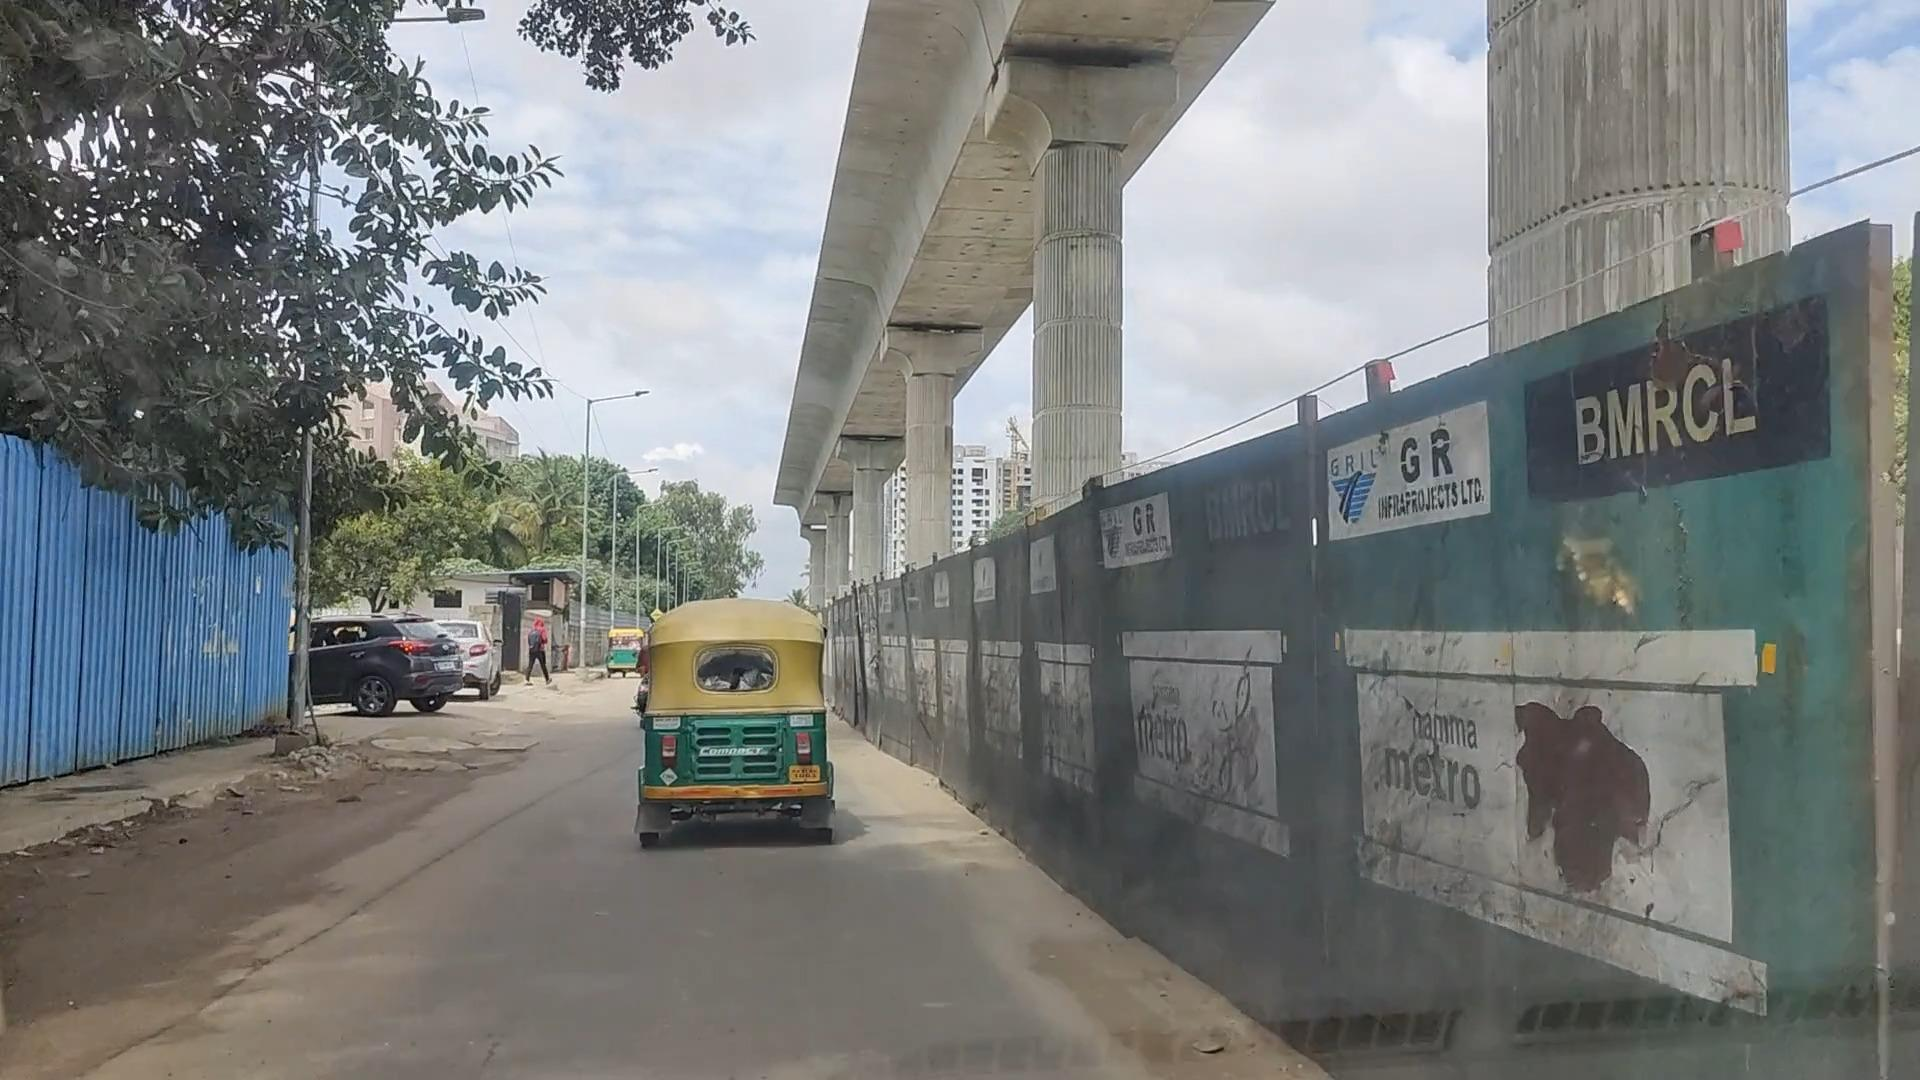LMV: (624, 593, 848, 848)
RoadDamages: (365, 713, 533, 787)
